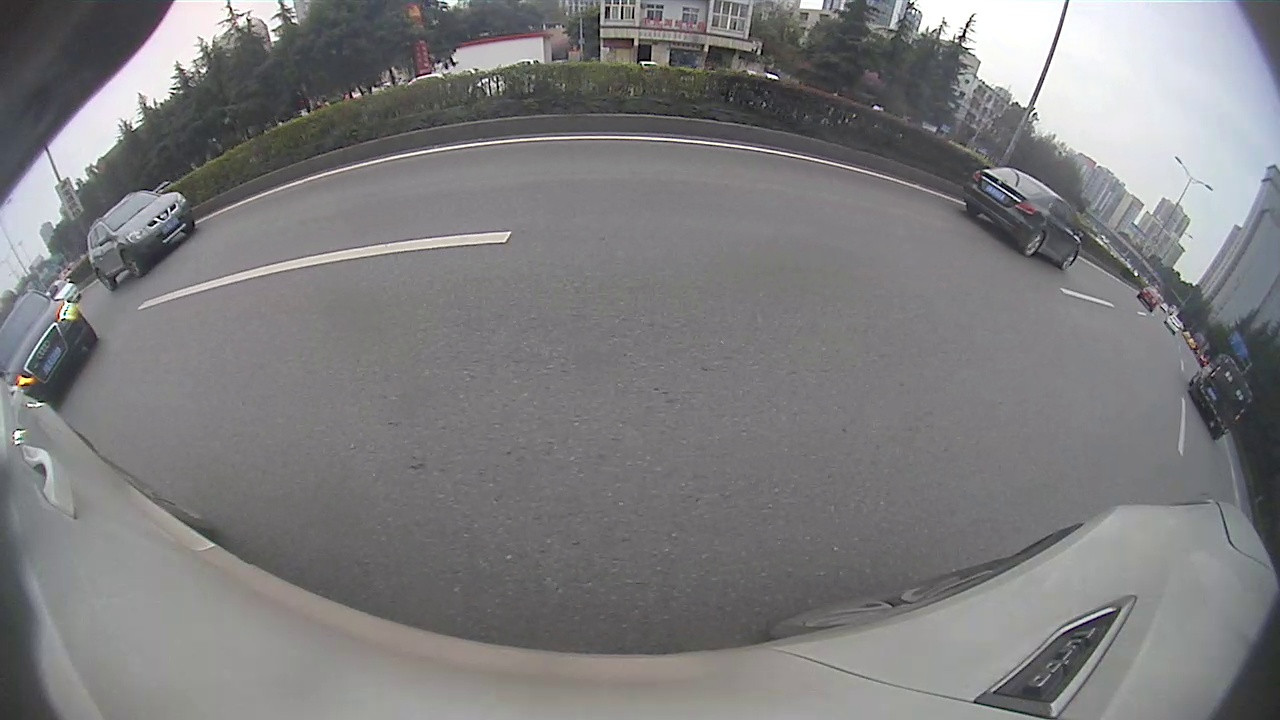car: (962, 167, 1080, 269), (1, 290, 97, 409), (85, 190, 196, 287), (1191, 351, 1250, 438)
front: (121, 250, 146, 279), (1060, 249, 1079, 272)
rear: (1022, 229, 1046, 259), (96, 268, 119, 293)
